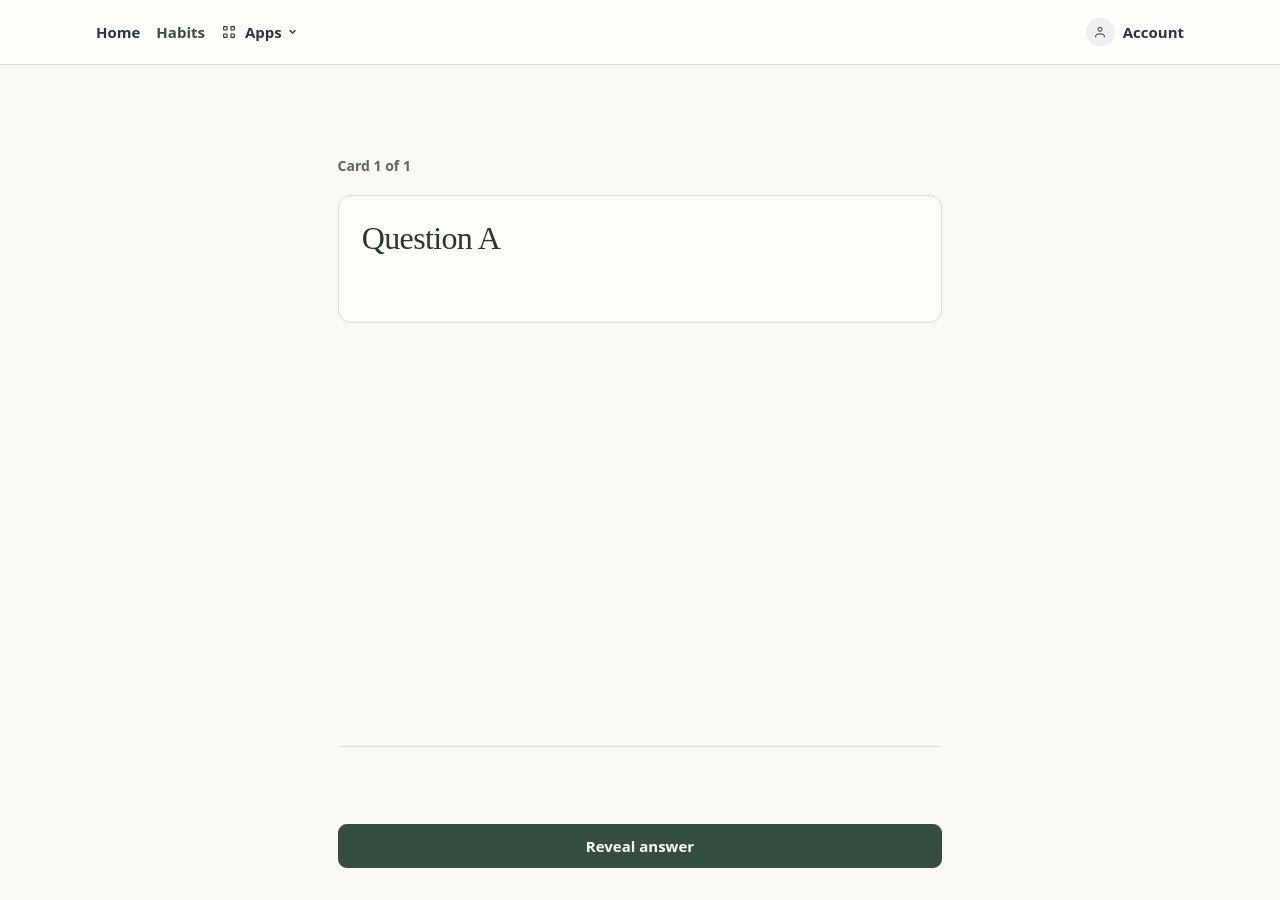
a missing latest RPC allows ordinary reviews and probes again after completion
The image size is (1280, 900).
Click the button "Reveal answer".
click(640, 846)  # box [338,824,942,868]
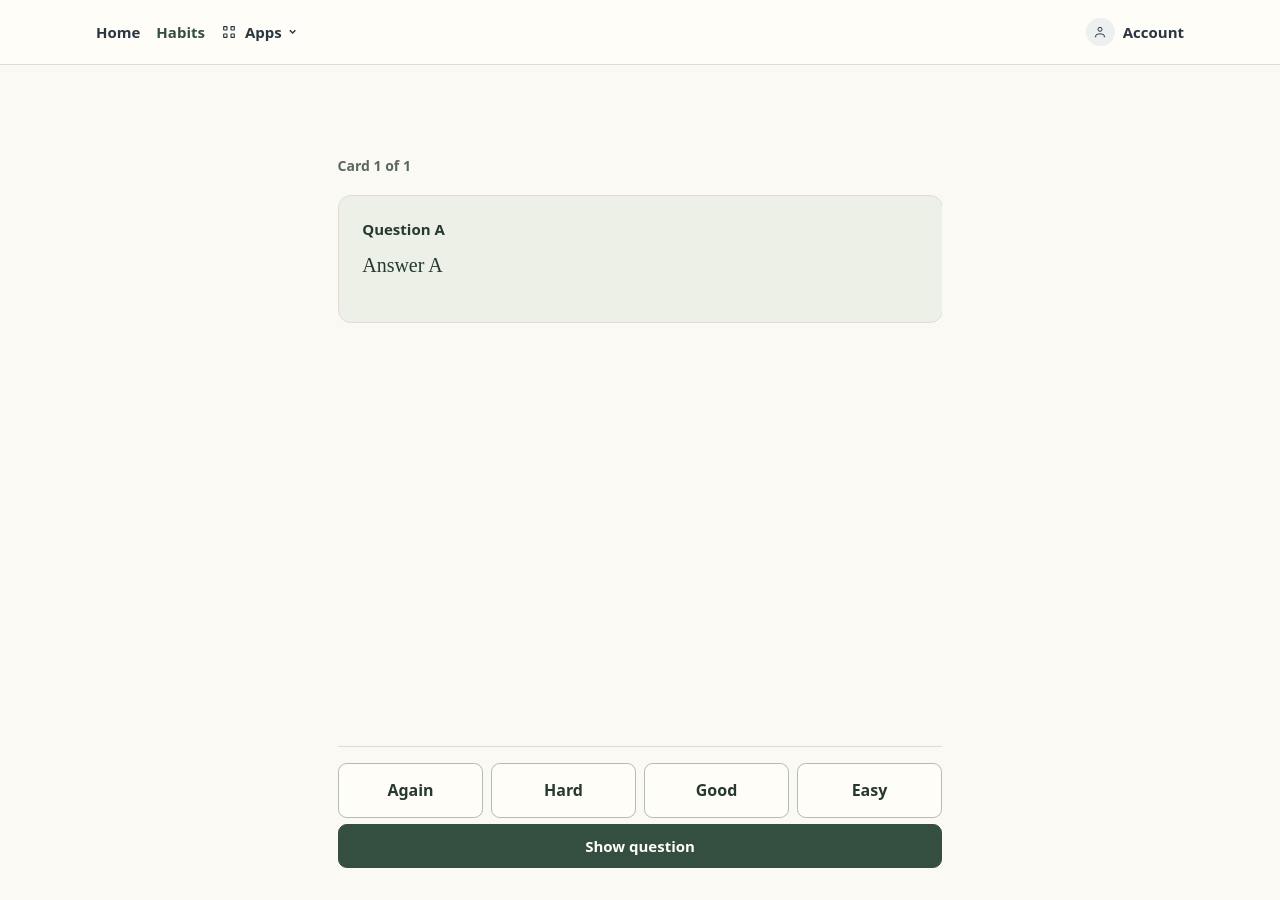
Expected: the button "Good" is shown
Click the button "Good".
click(716, 790)  # box [644,763,789,818]
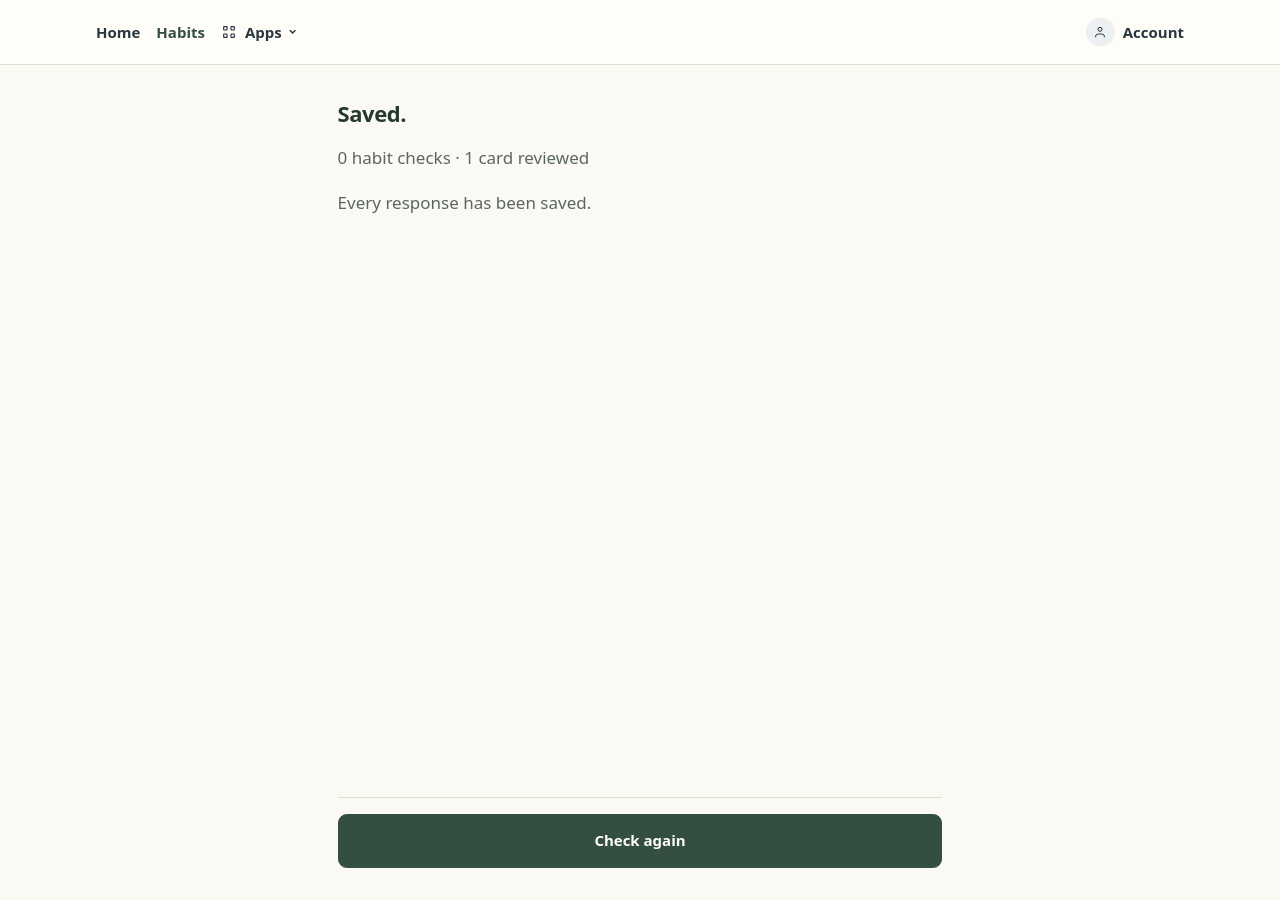
Click the button "Check again".
click(640, 841)  # box [338,814,942,868]
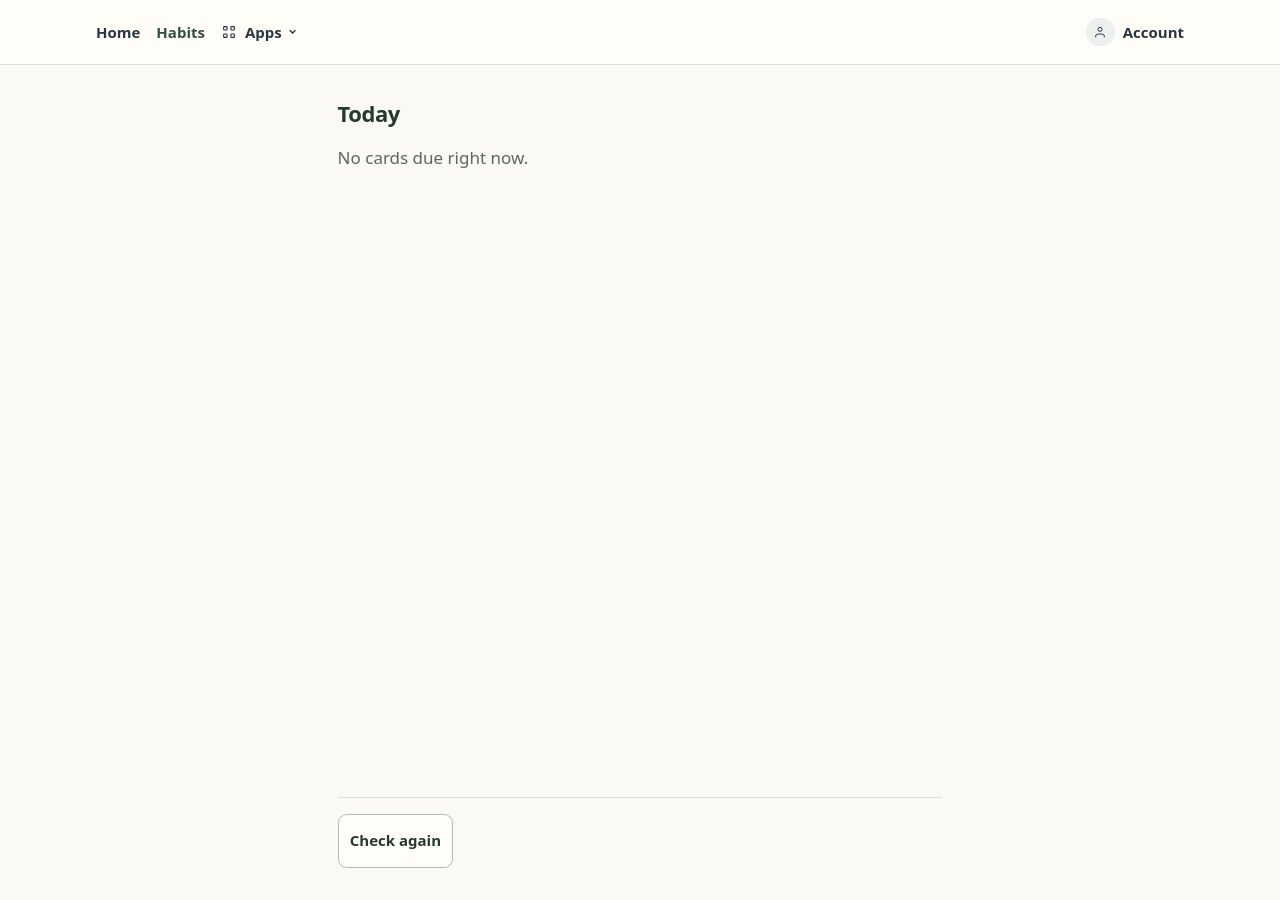
Expected: the text "No cards due" is shown, [338,146,528,169]
